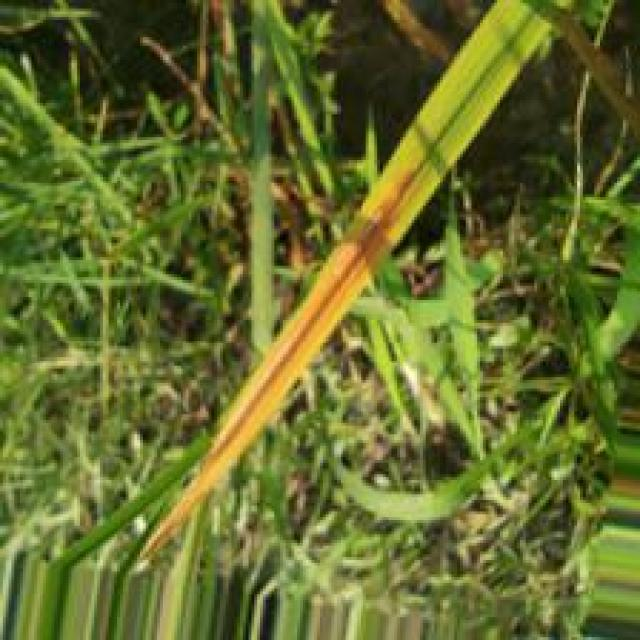Leaf_Blast: (139, 162, 417, 562)
